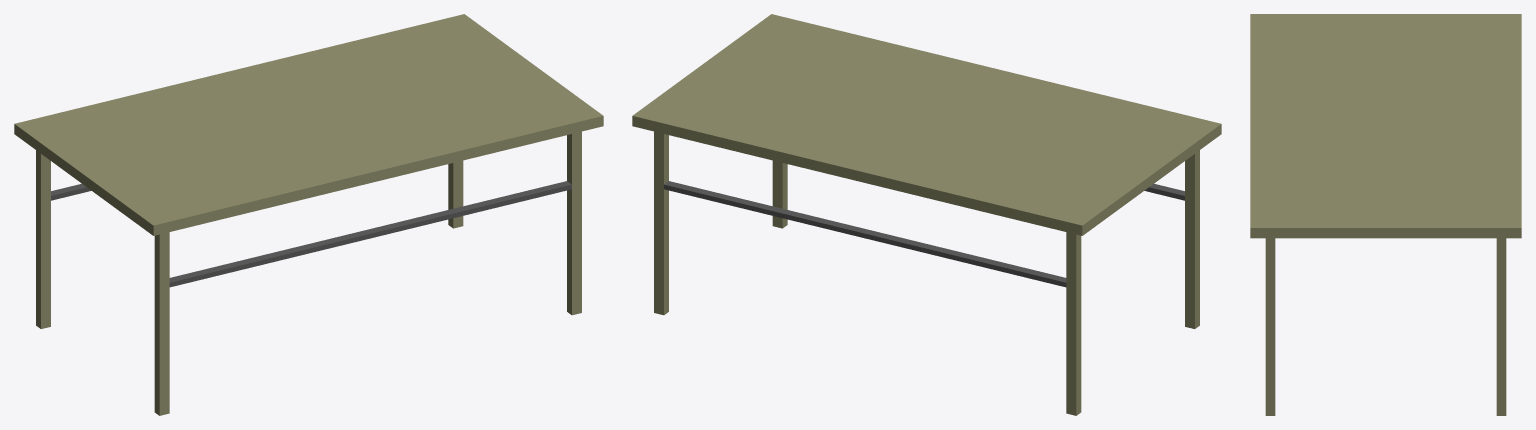
Rendered from tafel_2.fbx.
3 renders of one model, left to right at view 1: azimuth 30°, elevation 25°; view 2: azimuth 150°, elevation 25°; view 3: azimuth 270°, elevation 25°, orthographic. The views are drawn at different scales.
Visible parts, largest first — view 1: Cube.023; view 2: Cube.023; view 3: Cube.023.
Part boxes in pixels (x1,y1,x2,y2): Cube.023: (14,14,603,415); Cube.023: (632,14,1221,415); Cube.023: (1250,14,1521,415).
Bounding box in the file's own units: 374 × 158 × 200.
